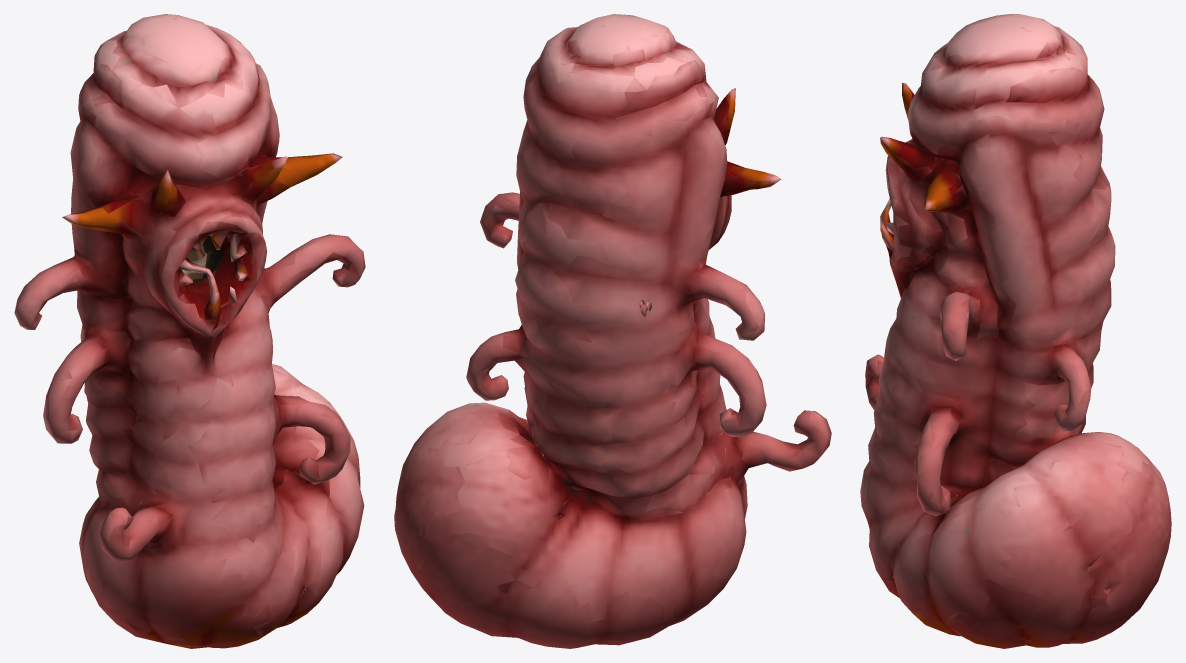
The model's file is SARGG1.obj.
3 views of the same model, side by side, from view 1: azimuth 30°, elevation 25°; view 2: azimuth 150°, elevation 25°; view 3: azimuth 270°, elevation 25° (orthographic). The views are drawn at different scales.
Bounding box in the file's own units: 0.5833 × 1 × 0.4865.
1 material, 1 textured.
